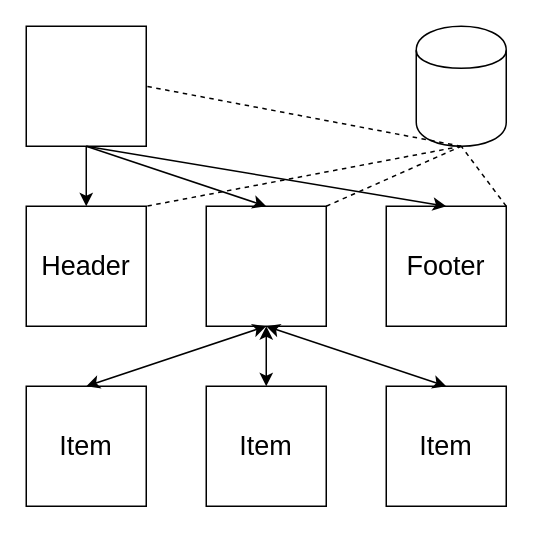
Some shapes in this 534 by 533 pixel diagram are drawn without their labels. Here are the shapes that lost their labels. From the top down, the centre of each, then its label:
point (85, 85): App
point (460, 85): Store
point (265, 265): List
